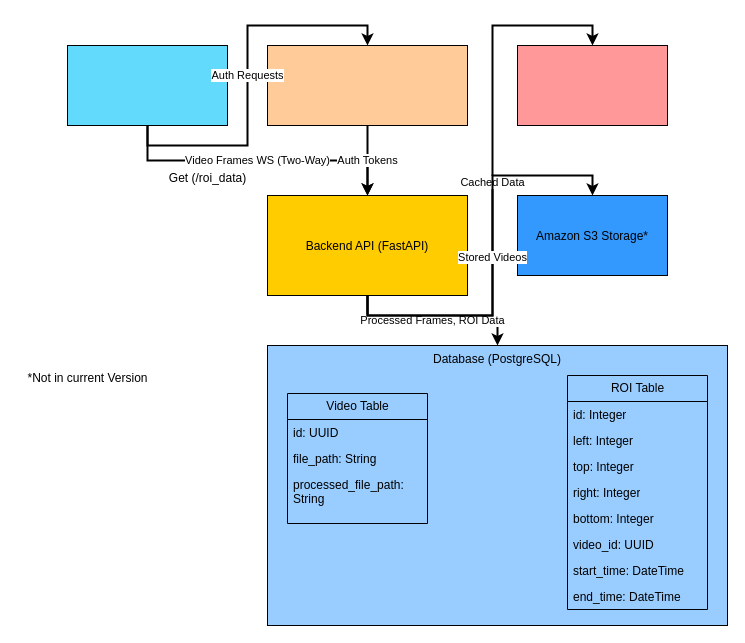
Some shapes in this 745 by 643 pixel diagram are drawn without their labels. Each missing label, with the box of its shape:
Authentication Service*: (266, 44, 468, 126)
React Frontend: (66, 44, 228, 126)
Redis Cache*: (516, 44, 668, 126)
